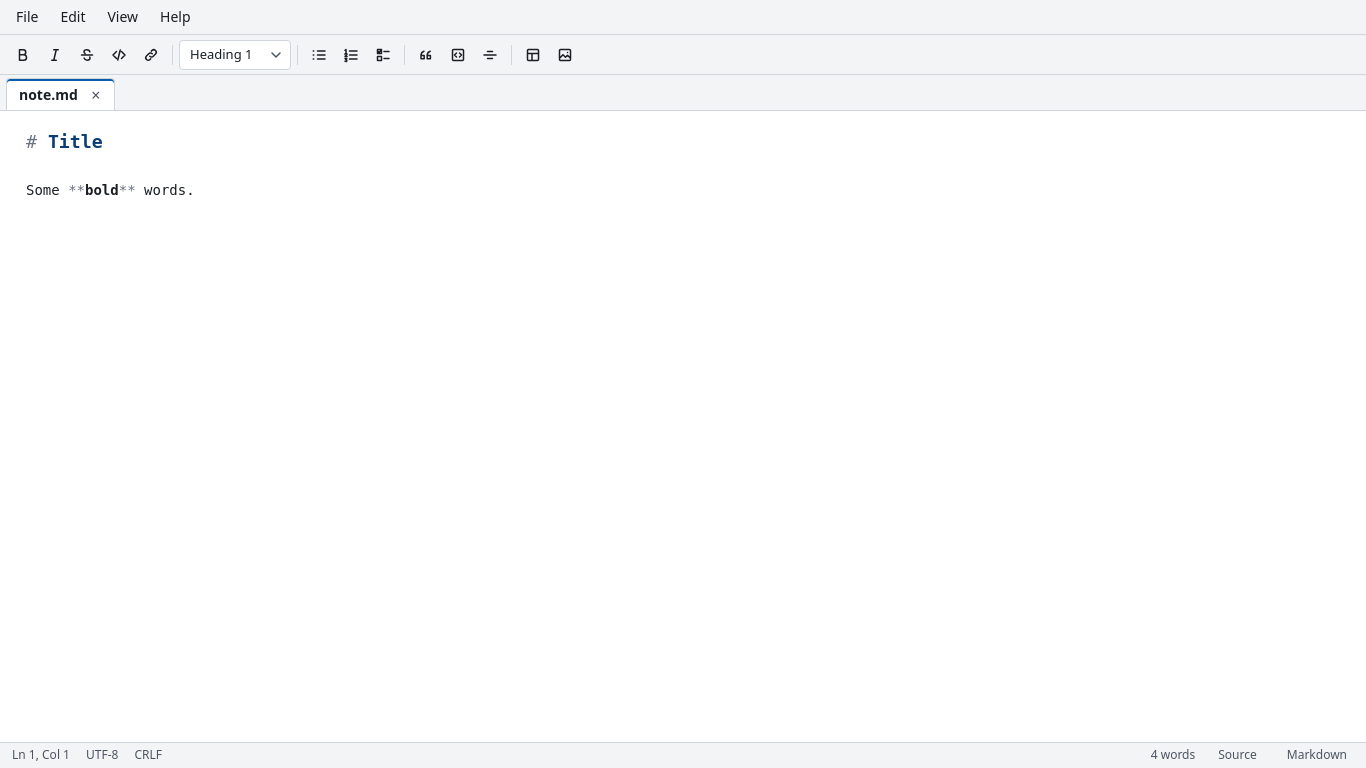
Test: the quick pick › filters as you type
Click the button with aria-label "Format:". click: (1317, 756)
box: [1280,746,1354,765]
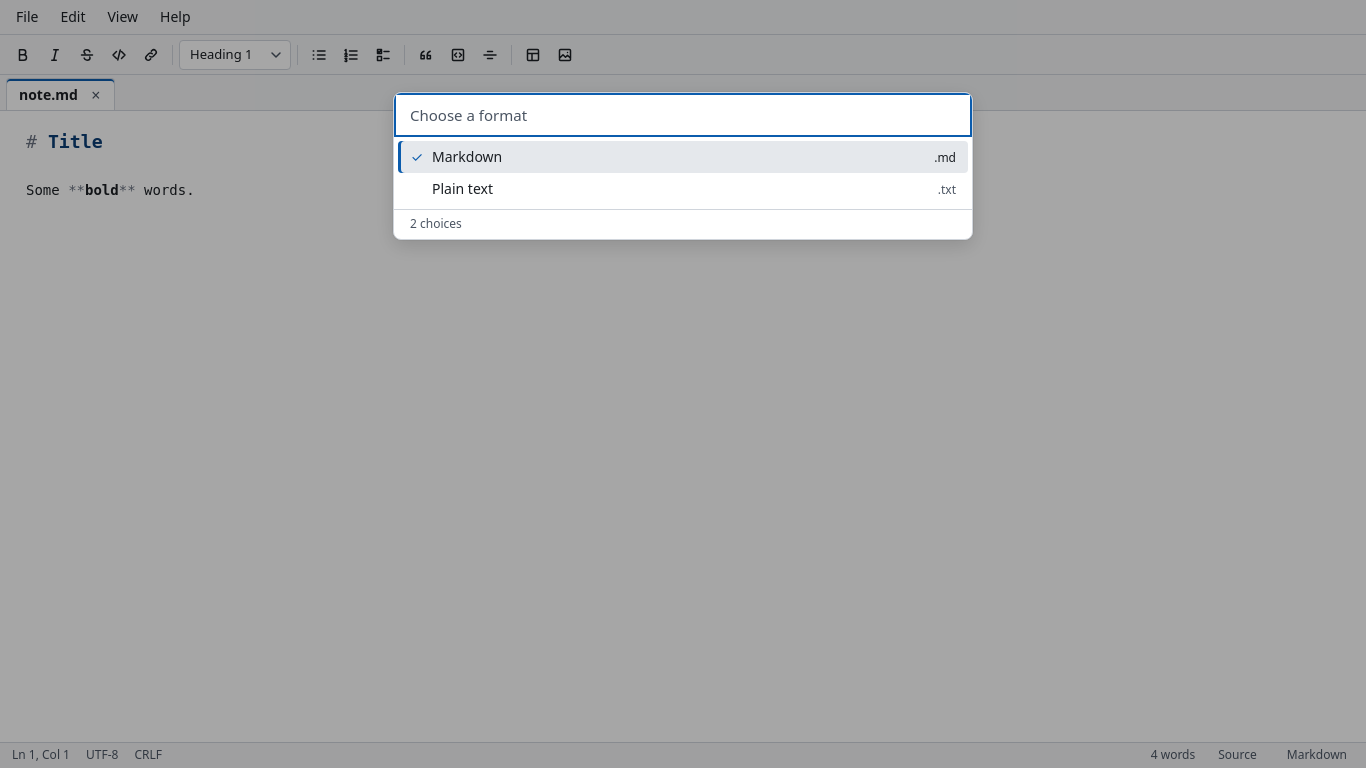
Type "plain" into the dropdown. click: (683, 115)
box: [394,93,972,137]
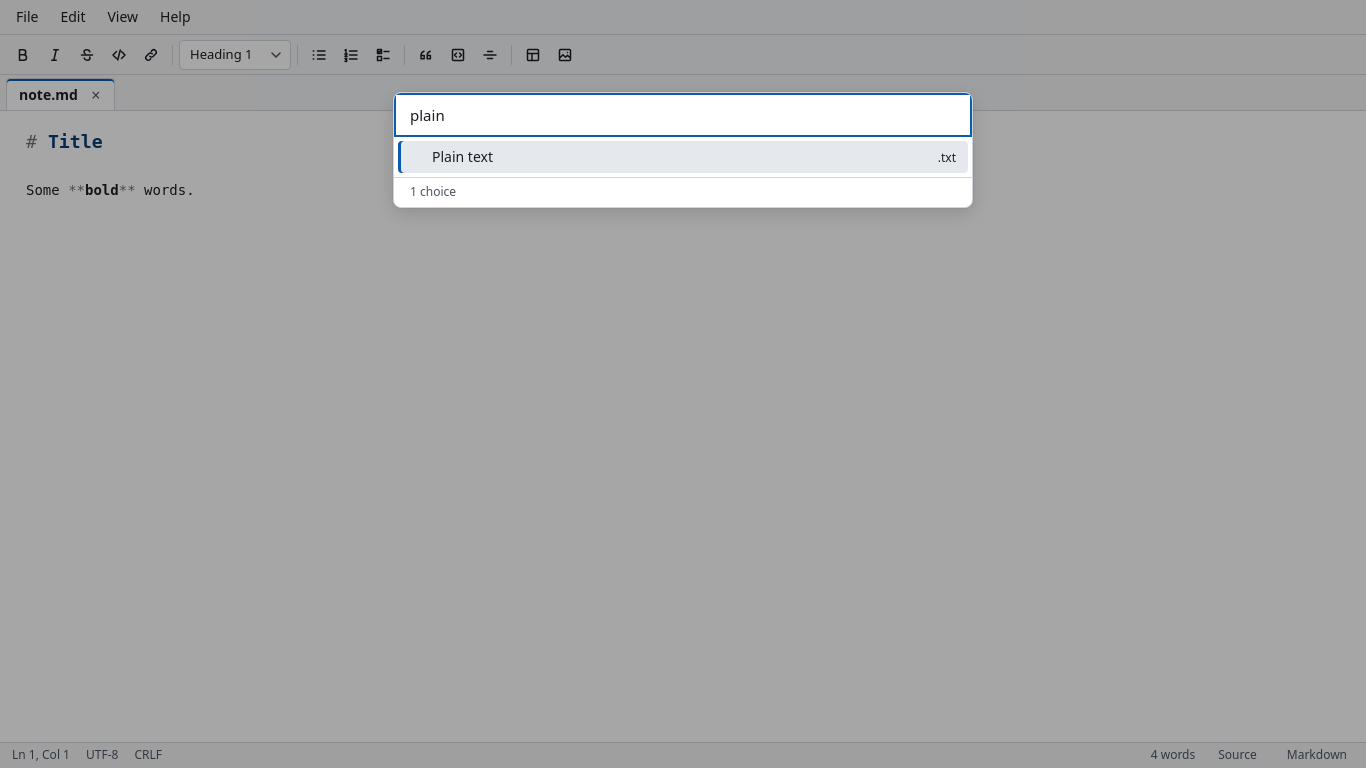
Press Enter in the dropdown, box [394,93,972,137]
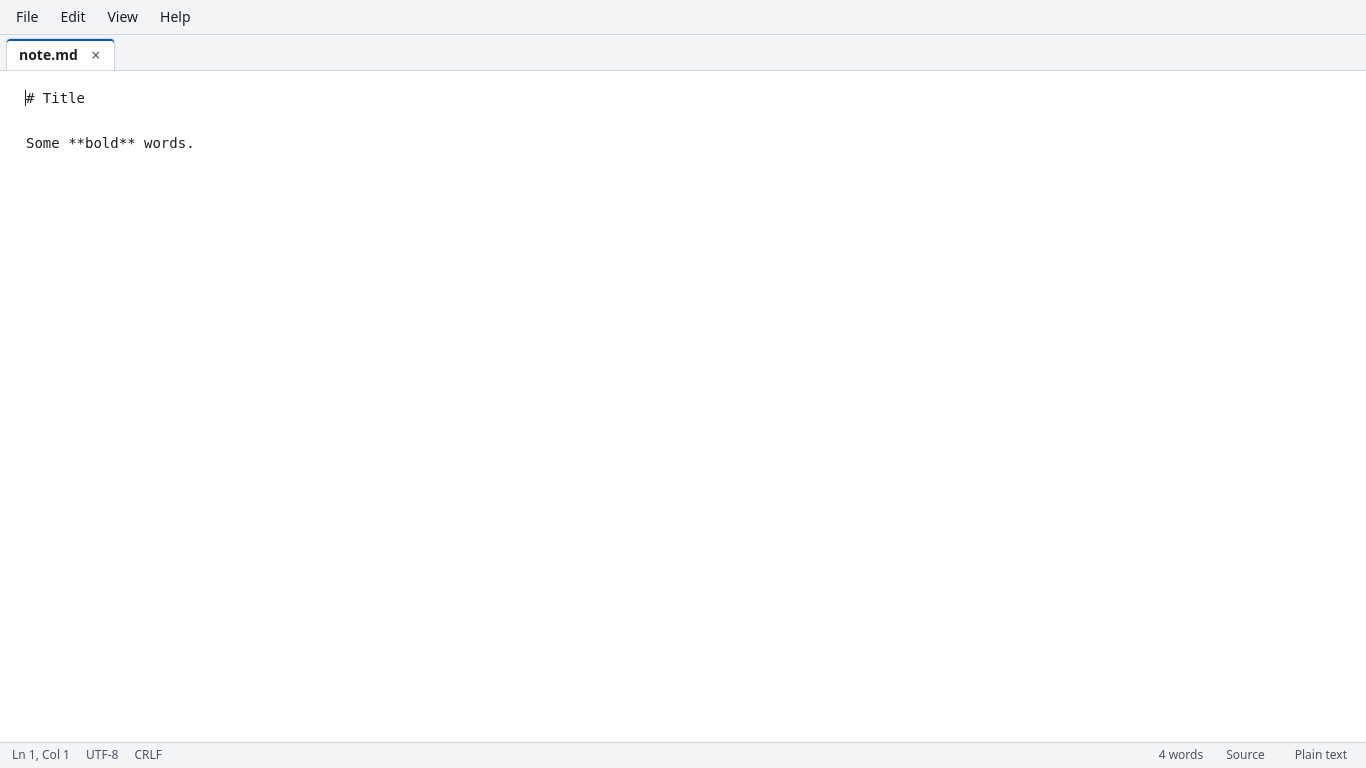
Click the button with aria-label "Format:". click: (1321, 756)
box: [1288,746,1354,765]
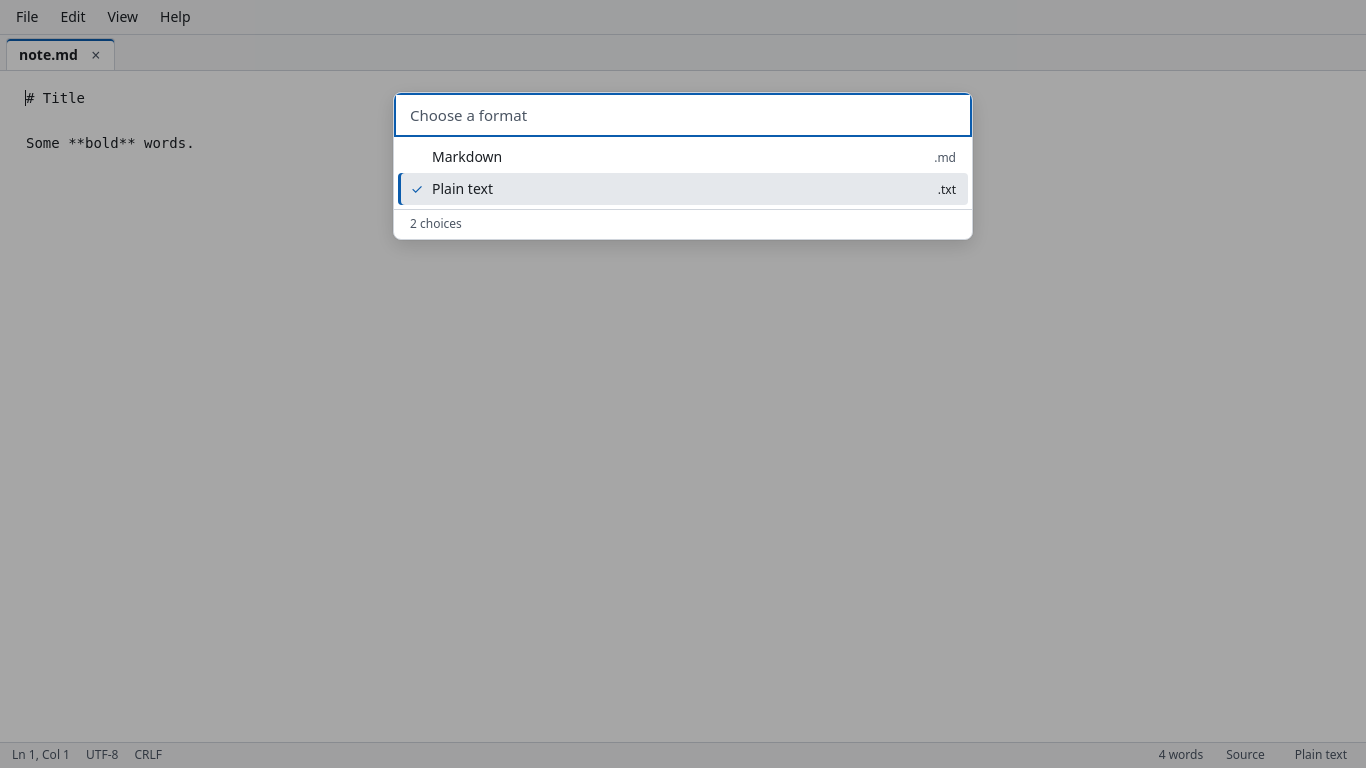
Type "zzz" into the dropdown. click: (683, 115)
box: [394,93,972,137]
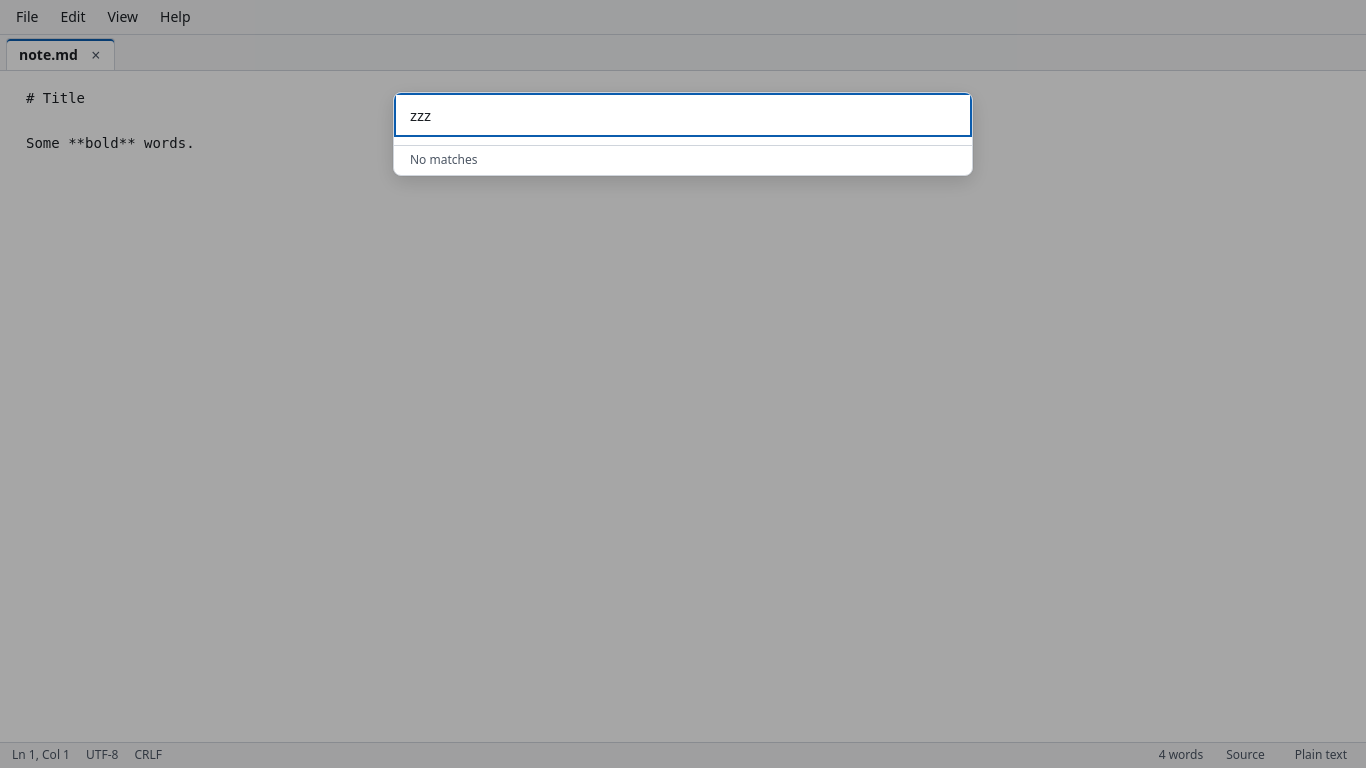
Check: no options are shown
Check: the message reads "No matches", box [410,151,478,168]
